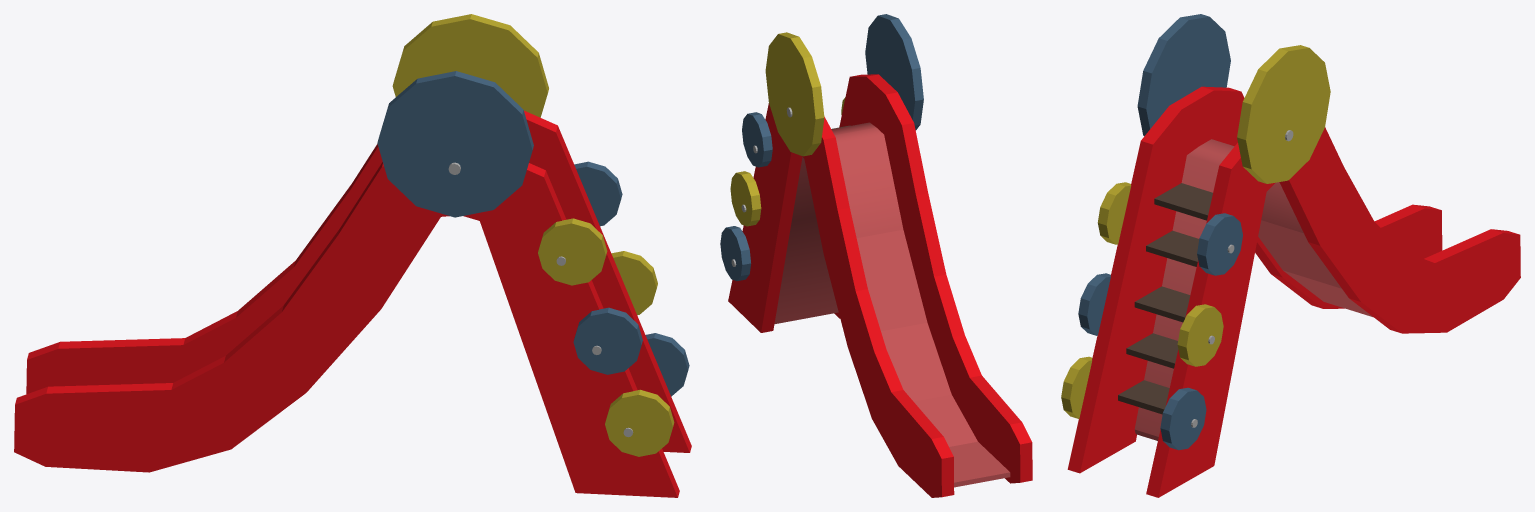
File: Slide.fbx
The picture shows the model from 3 angles, left to right: view 1: azimuth 30°, elevation 25°; view 2: azimuth 150°, elevation 25°; view 3: azimuth 270°, elevation 25°; orthographic projection. The views are drawn at different scales.
Parts seen in each view (by area): view 1: Slide; view 2: Slide; view 3: Slide.
Part boxes in pixels (<box>): Slide: <box>14,14,691,497</box>; Slide: <box>720,14,1032,497</box>; Slide: <box>1061,14,1520,497</box>.
Size of the model in its own units: 932 by 763 by 696.
